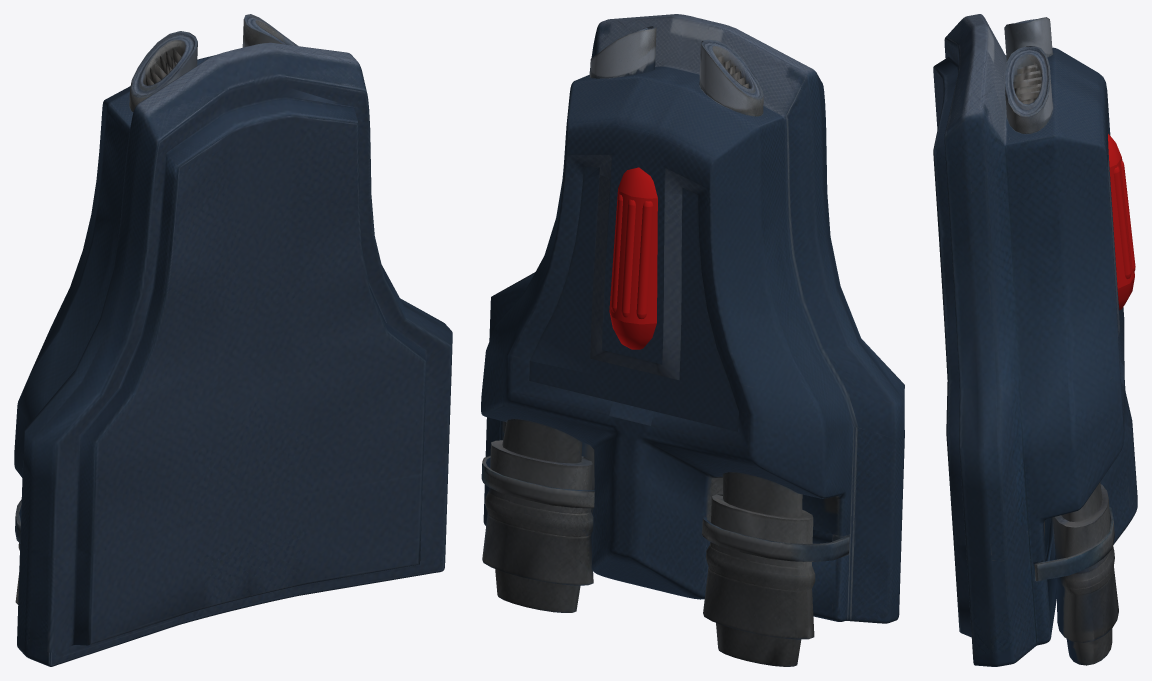
The model's file is DM Jetpack Sub.fbx.
The picture shows the model from 3 angles, left to right: view 1: azimuth 30°, elevation 25°; view 2: azimuth 150°, elevation 25°; view 3: azimuth 270°, elevation 25°; orthographic projection. The views are drawn at different scales.
Parts seen in each view (by area): view 1: mesh_node; view 2: mesh_node, OilTank001; view 3: mesh_node, OilTank001.
Part boxes in pixels (x1,y1,x2,y2): mesh_node: (14, 14, 452, 666); mesh_node: (481, 14, 904, 666); OilTank001: (609, 167, 657, 349); mesh_node: (933, 14, 1137, 666); OilTank001: (1108, 134, 1135, 310).
Size of the model in its own units: 7.23 by 9.79 by 3.21.
